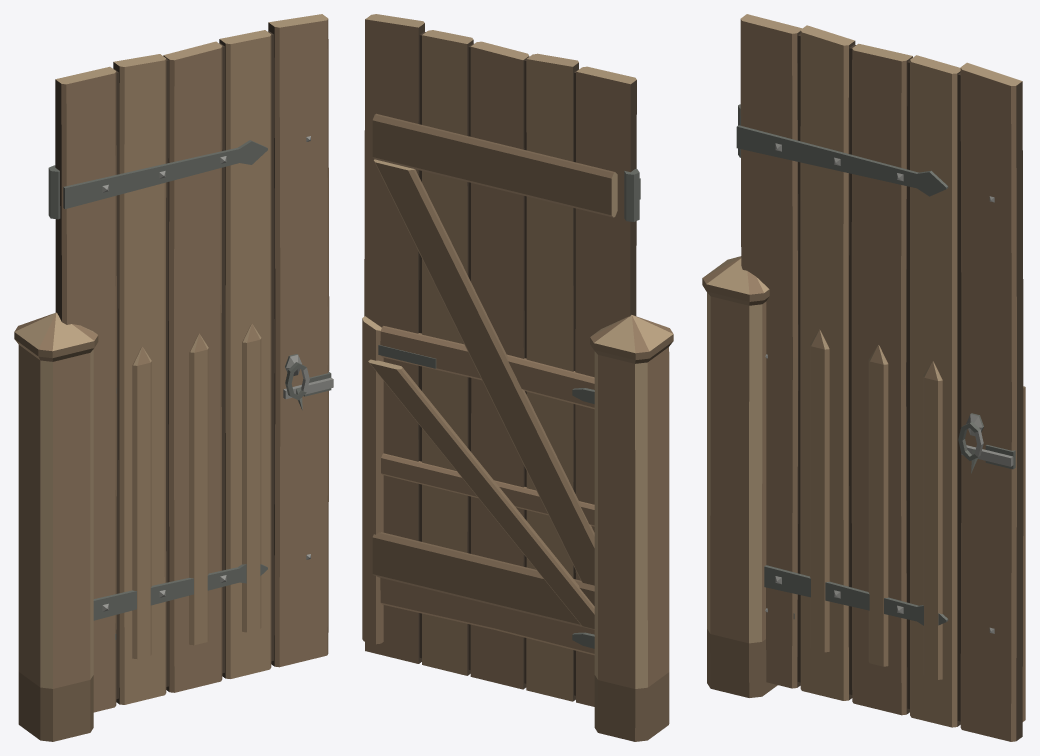
The model's file is props.glb.
The picture shows the model from 3 angles, left to right: view 1: azimuth 30°, elevation 25°; view 2: azimuth 150°, elevation 25°; view 3: azimuth 330°, elevation 25°; orthographic projection. The views are drawn at different scales.
Parts seen in each view (by area): view 1: door-leaf_Planks, gate-post_Post, yard-gate_Timber, door-leaf_Iron, yard-gate_Iron; view 2: door-leaf_Planks, gate-post_Post, yard-gate_Timber, door-leaf_Iron, yard-gate_Iron; view 3: door-leaf_Planks, gate-post_Post, yard-gate_Timber, door-leaf_Iron, yard-gate_Iron.
Boxes of the visible parts, x1,y1,x2,y2 form: door-leaf_Planks: (55,14,329,712); gate-post_Post: (14,312,98,741); yard-gate_Timber: (132,323,261,659); door-leaf_Iron: (48,136,310,620); yard-gate_Iron: (115,372,333,639); door-leaf_Planks: (364,14,636,706); gate-post_Post: (590,315,673,741); yard-gate_Timber: (362,316,594,655); door-leaf_Iron: (378,169,640,368); yard-gate_Iron: (572,388,594,648); door-leaf_Planks: (740,14,1023,741); gate-post_Post: (702,256,777,697); yard-gate_Timber: (810,329,1025,721); door-leaf_Iron: (736,104,994,633); yard-gate_Iron: (765,354,1015,619).
Size of the model in its own units: 1.12 by 2.33 by 0.224.
